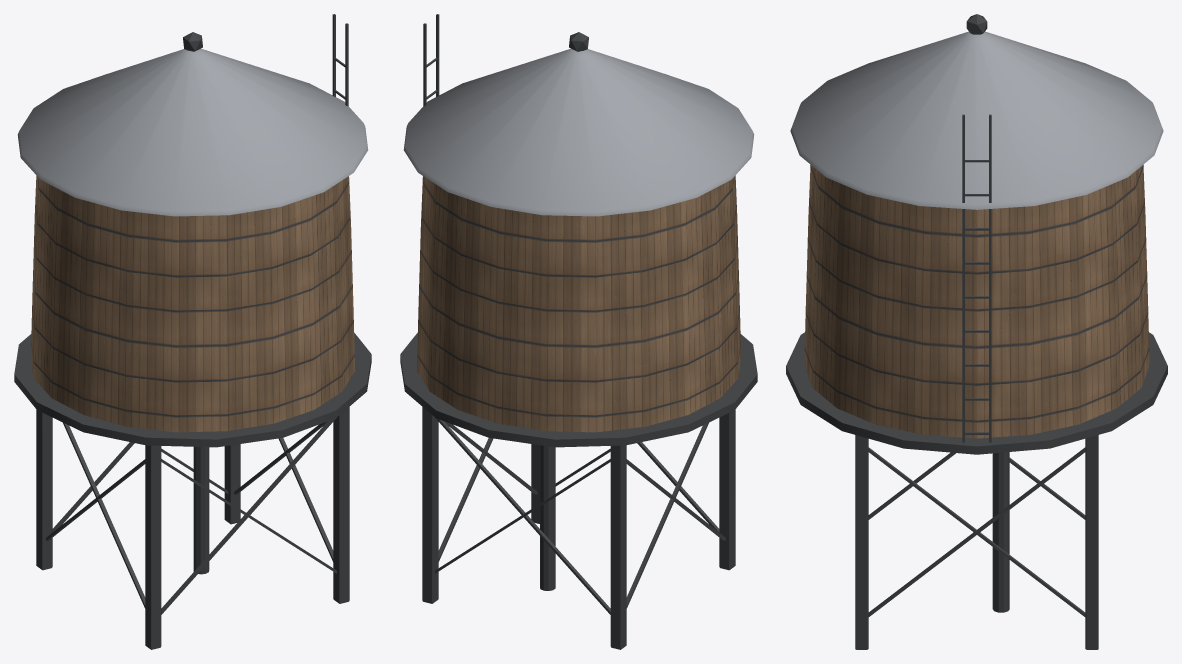
The model's file is water_tower.glb.
The picture shows the model from 3 angles, left to right: view 1: azimuth 30°, elevation 25°; view 2: azimuth 150°, elevation 25°; view 3: azimuth 270°, elevation 25°; orthographic projection. The views are drawn at different scales.
Visible parts, largest first — view 1: WaterTower_Intact; view 2: WaterTower_Intact; view 3: WaterTower_Intact.
Part boxes in pixels (x1,y1,x2,y2): WaterTower_Intact: (14,14,371,649); WaterTower_Intact: (400,14,757,649); WaterTower_Intact: (786,14,1167,649).
Bounding box in the file's own units: 6.3 × 10.65 × 6.3.
Materials: 3 (1 with a texture image).
